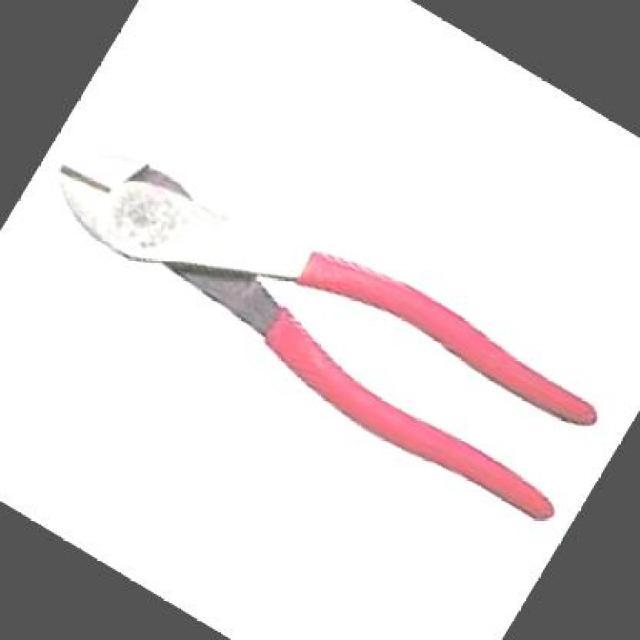pliers: (7, 70, 638, 568)
